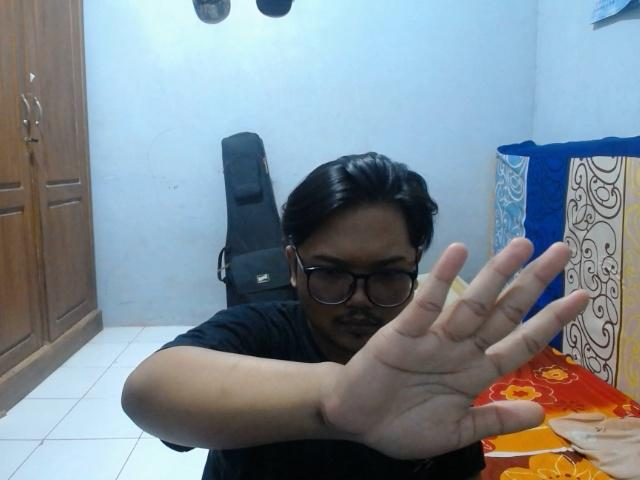Release: (319, 231, 597, 469)
